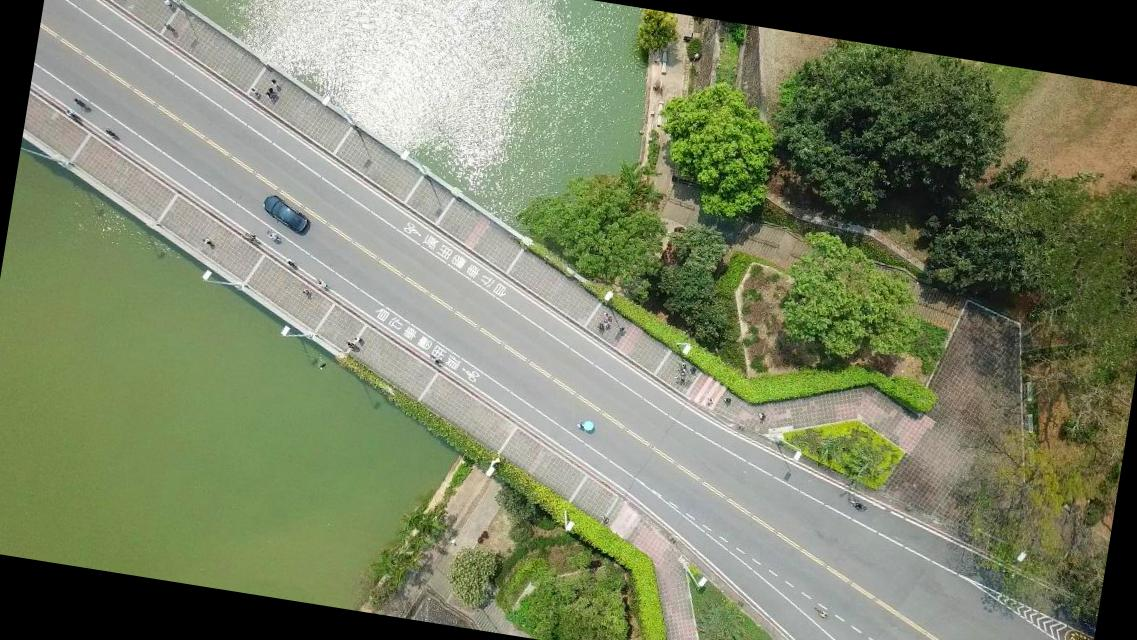vehicle: (259, 192, 313, 234)
